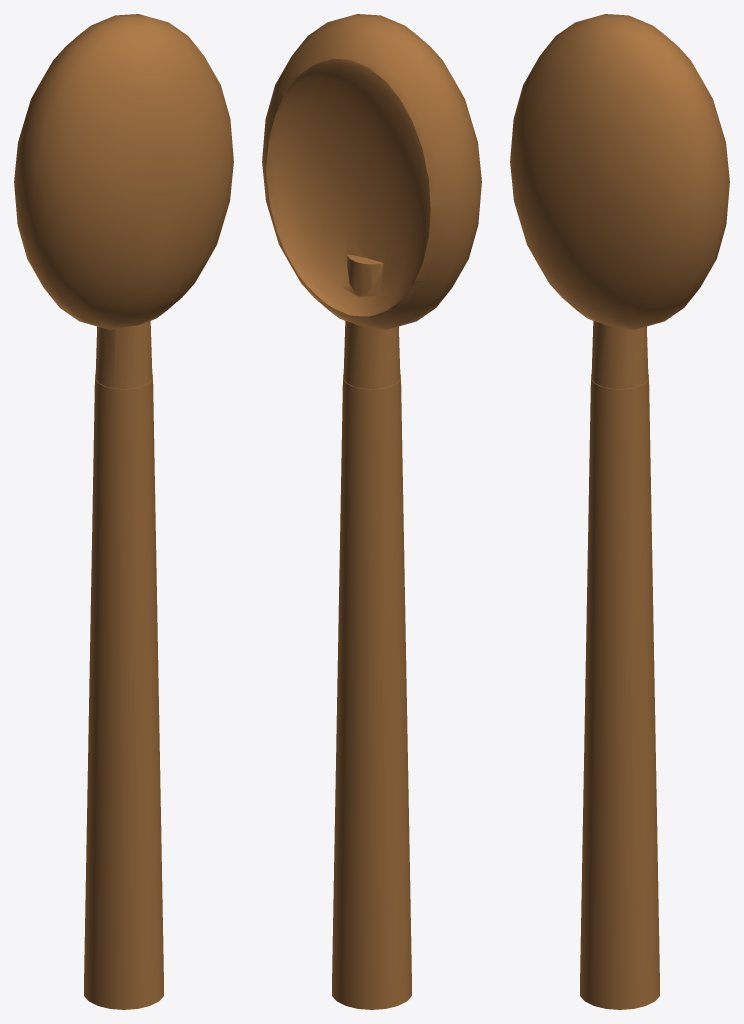
Rendered from wooden_spoon.glb.
3 views of the same model, side by side, from view 1: azimuth 30°, elevation 25°; view 2: azimuth 150°, elevation 25°; view 3: azimuth 330°, elevation 25° (orthographic).
Visible parts, largest first — view 1: wooden_spoon; view 2: wooden_spoon; view 3: wooden_spoon.
Boxes of the visible parts, x1,y1,x2,y2 form: wooden_spoon: [14, 14, 233, 1009]; wooden_spoon: [262, 14, 481, 1009]; wooden_spoon: [510, 14, 729, 1009].
Size of the model in its own units: 0.0199 by 0.09 by 0.0106.
